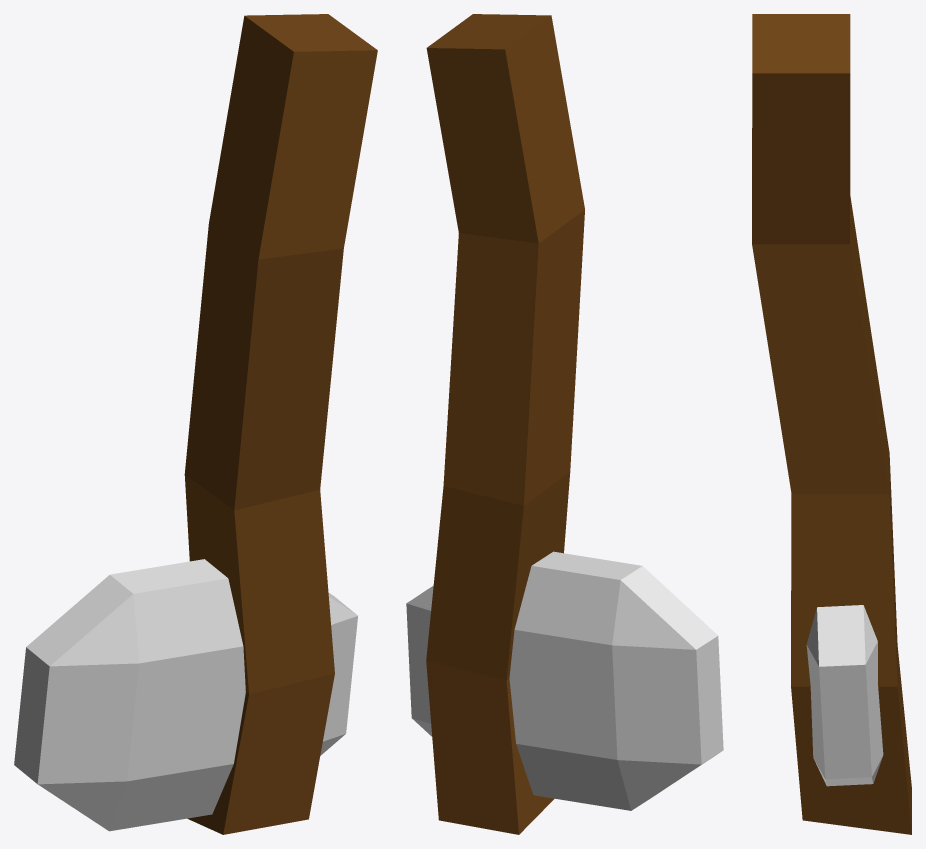
The picture shows the model from 3 angles, left to right: view 1: azimuth 30°, elevation 25°; view 2: azimuth 150°, elevation 25°; view 3: azimuth 270°, elevation 25°; orthographic projection. The views are drawn at different scales.
Visible parts, largest first — view 1: AX; view 2: AX; view 3: AX.
Part boxes in pixels (left/top/right/bottom): AX: left=14, top=14, right=377, bottom=834; AX: left=406, top=14, right=723, bottom=834; AX: left=752, top=14, right=911, bottom=834.
Size of the model in its own units: 90.7 by 221 by 39.96.
